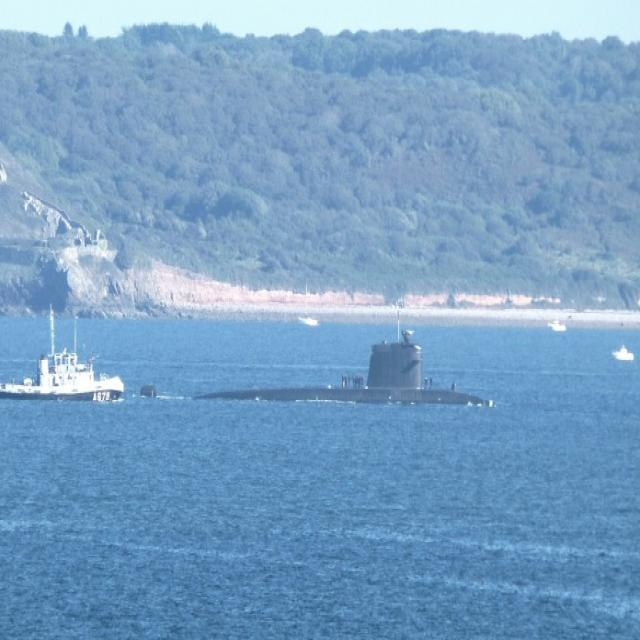submarine: (197, 342, 516, 401)
